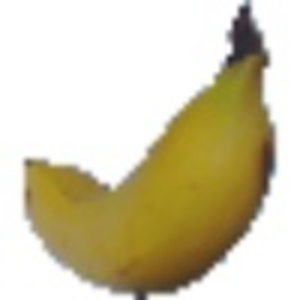banana: (16, 9, 298, 295)
